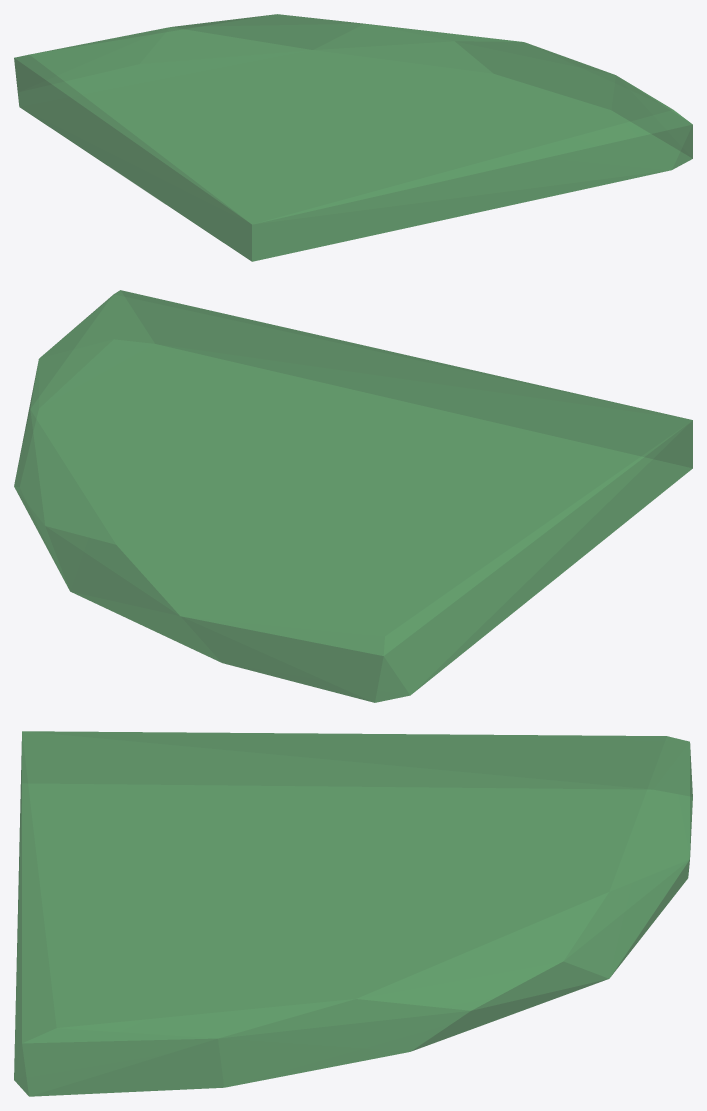
3 renders of one model, top to bottom at view 1: azimuth 30°, elevation 25°; view 2: azimuth 150°, elevation 25°; view 3: azimuth 270°, elevation 25°, orthographic. The views are drawn at different scales.
Parts seen in each view (by area): view 1: Shape_IndexedFaceSet.003_Shape_IndexedFaceSet.3660; view 2: Shape_IndexedFaceSet.003_Shape_IndexedFaceSet.3660; view 3: Shape_IndexedFaceSet.003_Shape_IndexedFaceSet.3660.
Part boxes in pixels (x1=…): Shape_IndexedFaceSet.003_Shape_IndexedFaceSet.3660: x1=14, y1=14, x2=692, y2=261; Shape_IndexedFaceSet.003_Shape_IndexedFaceSet.3660: x1=14, y1=290, x2=692, y2=702; Shape_IndexedFaceSet.003_Shape_IndexedFaceSet.3660: x1=14, y1=731, x2=692, y2=1096.
Bounding box in the file's own units: 0.1776 × 0.0171 × 0.1651.
